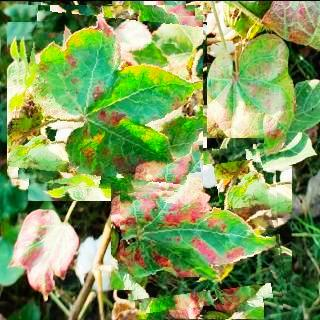blight: (12, 4, 203, 196), (120, 146, 283, 309)
